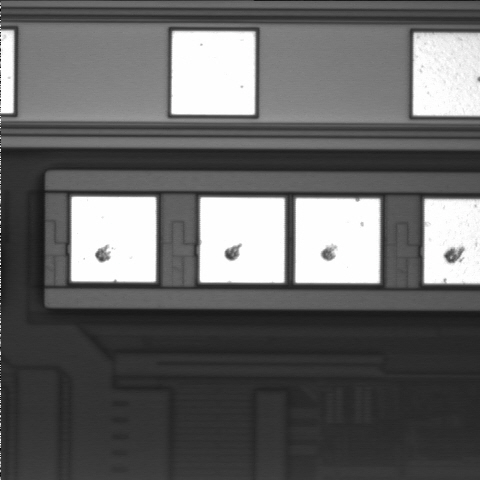pad: (200, 197, 285, 283), (71, 197, 156, 282), (295, 198, 380, 283), (171, 31, 255, 115)
